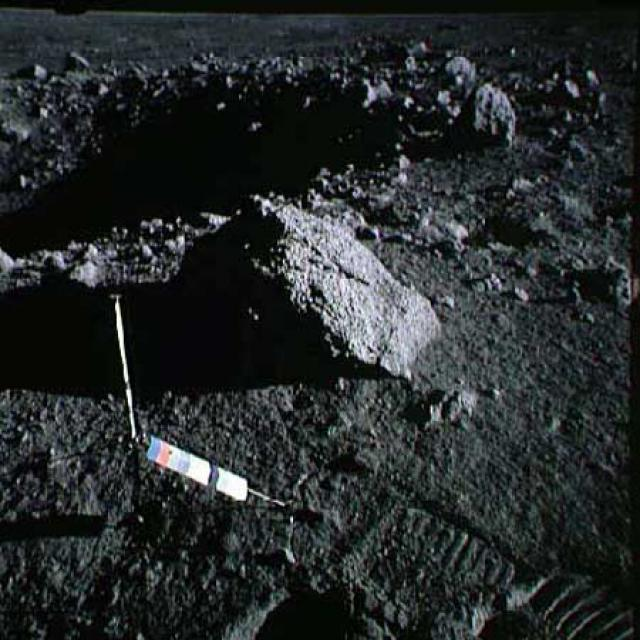artifact: (66, 268, 283, 531)
crater: (0, 66, 397, 224)
rock: (214, 200, 435, 362), (397, 80, 465, 141), (467, 80, 522, 139), (438, 47, 475, 85)
